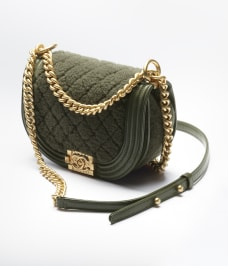channel: (8, 48, 196, 183), (145, 73, 183, 162), (31, 42, 74, 113), (80, 114, 132, 142), (66, 145, 105, 181)
